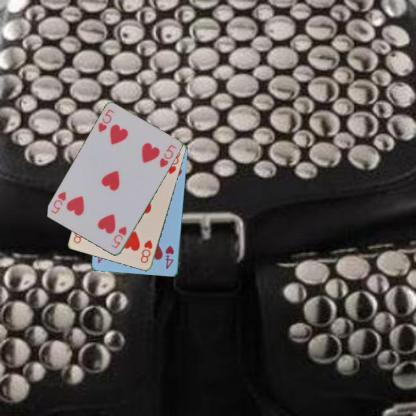4h: (162, 243, 175, 270)
5h: (96, 106, 116, 134), (109, 224, 128, 250)
8h: (138, 237, 154, 264)
